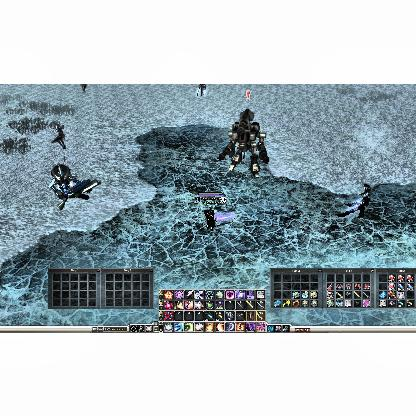caliana: (336, 183, 376, 217), (52, 122, 66, 148)
